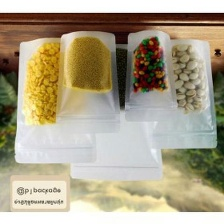snack: (64, 38, 169, 185), (9, 33, 101, 168), (146, 35, 221, 153), (51, 25, 123, 138), (121, 26, 180, 127)
